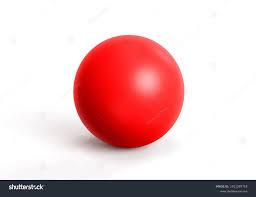red_circle: (65, 27, 195, 160)
